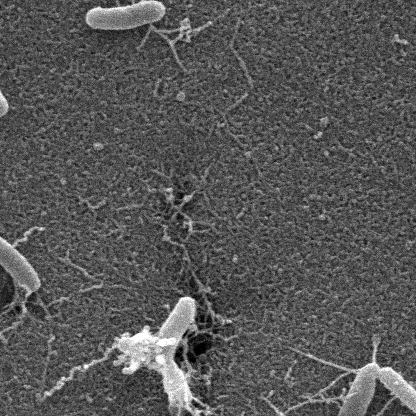cell2cell: (100, 411, 185, 416)
cell2surface: (276, 381, 358, 416), (289, 344, 365, 380), (147, 22, 191, 65)
curved: (154, 296, 200, 409)
filament: (278, 365, 380, 416)
regular: (0, 222, 45, 294), (84, 1, 169, 35), (378, 365, 416, 416), (0, 54, 11, 119)
